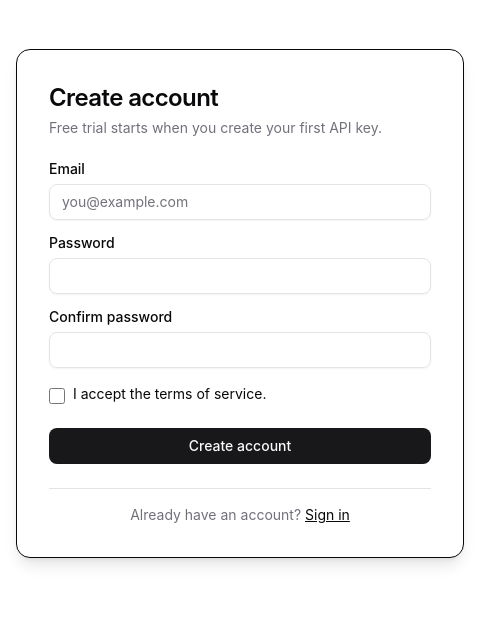
it: RegisterPage › blocks submit when terms not accepted
This screenshot has width=481, height=617.
Type "bob@example.com" into the field labelled "Email" at (240, 202), box [49,184,431,220]
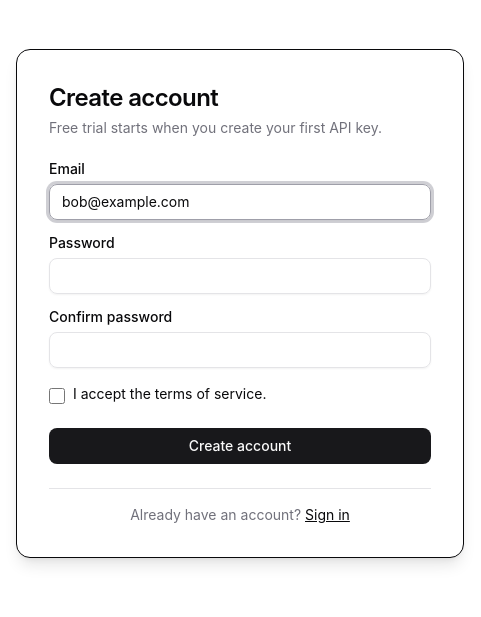
Type "Password1!" into the password field labelled "Password" at (240, 276), box [49,258,431,294]
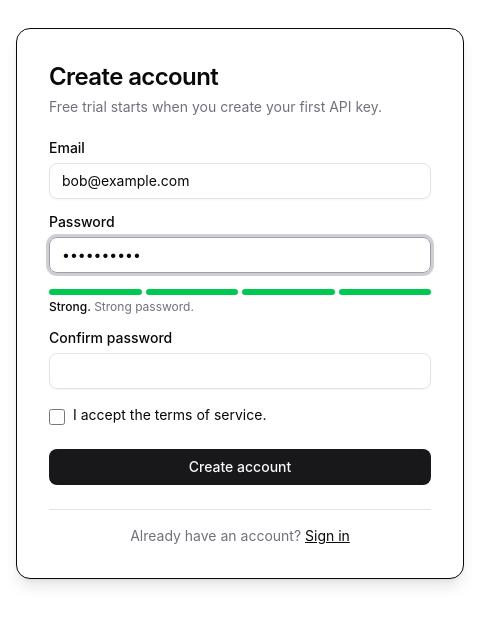
Type "Password1!" into the password field labelled "Confirm password" at (240, 370), box [49,352,431,388]
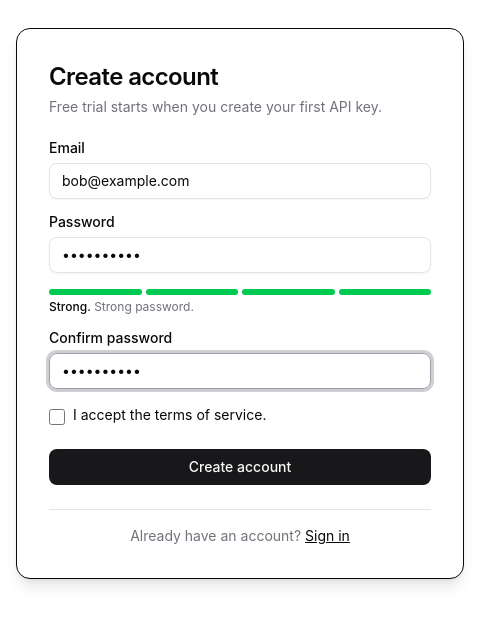
Click the button "Create account" at (240, 466), box [49,448,431,484]
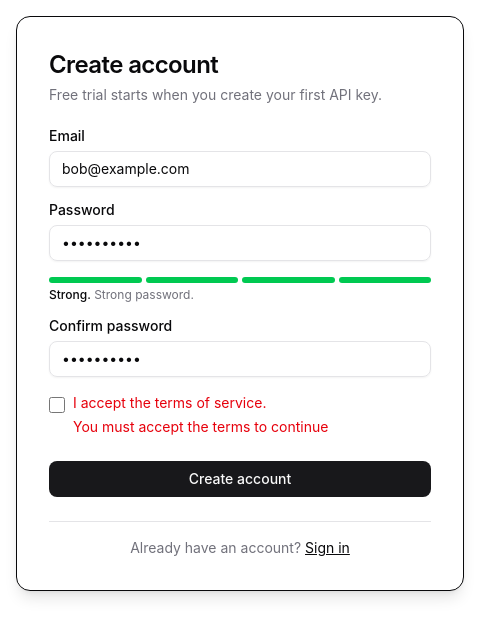
expect the text "You must accept the terms to continue" is shown: met, box [73,416,328,436]
